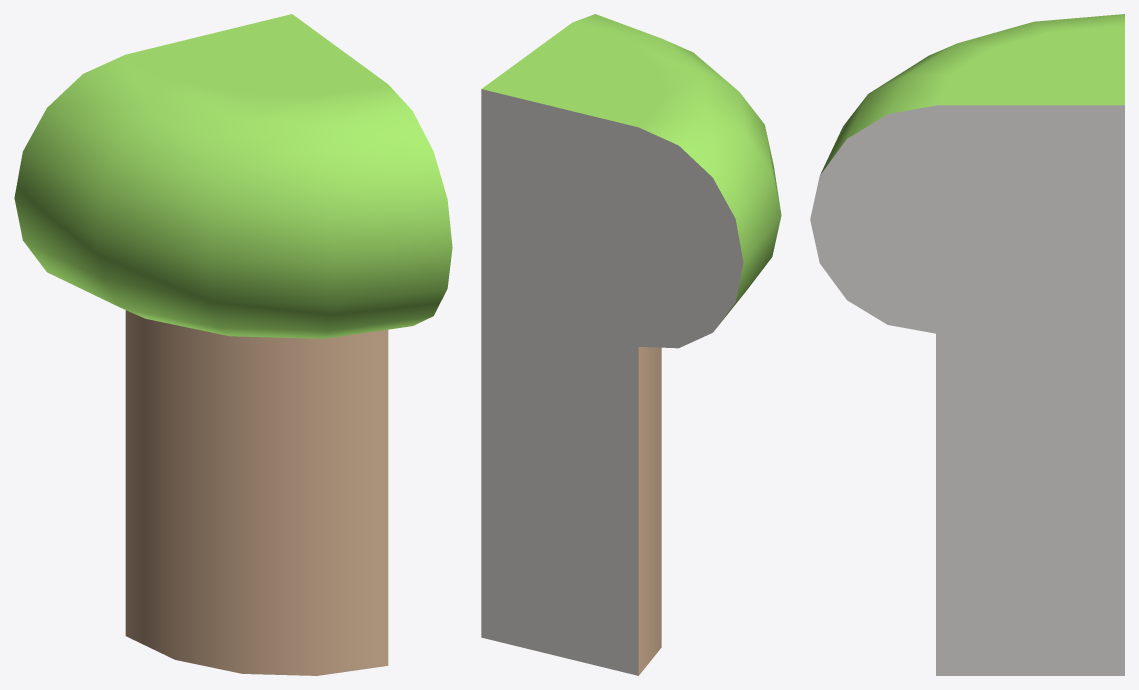
File: grassEdgeCorner.glb
The picture shows the model from 3 angles, left to right: view 1: azimuth 30°, elevation 25°; view 2: azimuth 150°, elevation 25°; view 3: azimuth 270°, elevation 25°; orthographic projection. The views are drawn at different scales.
Visible parts, largest first — view 1: Dirt_Wall; view 2: Hidden, Dirt_Wall; view 3: Hidden, Dirt_Wall.
Boxes of the visible parts, x1,y1,x2,y2 form: Dirt_Wall: [14, 14, 452, 675]; Hidden: [481, 89, 743, 675]; Dirt_Wall: [482, 14, 781, 675]; Hidden: [810, 105, 1124, 675]; Dirt_Wall: [820, 14, 1124, 174].
Size of the model in its own units: 0.625 by 1.25 by 0.625.
